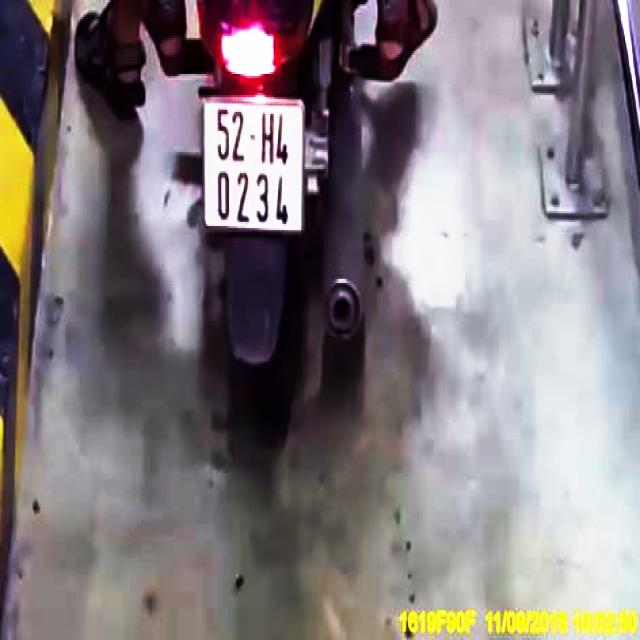license_plate: (201, 100, 306, 228)
